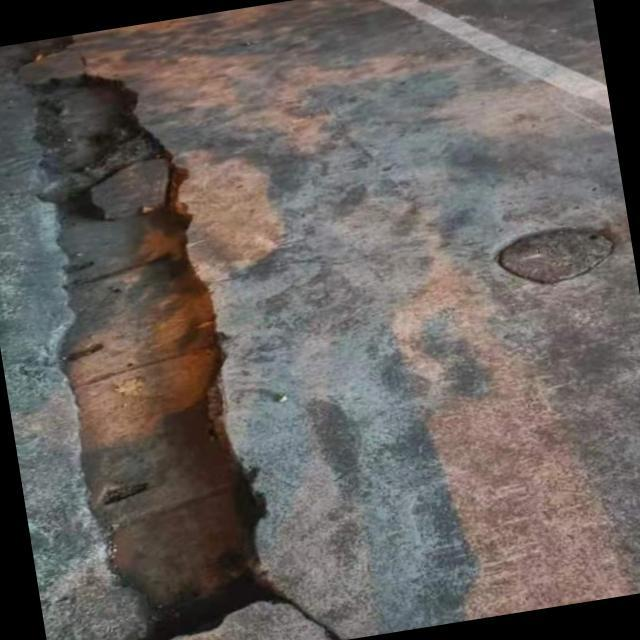Pothole: (27, 74, 297, 640), (492, 228, 613, 283)
